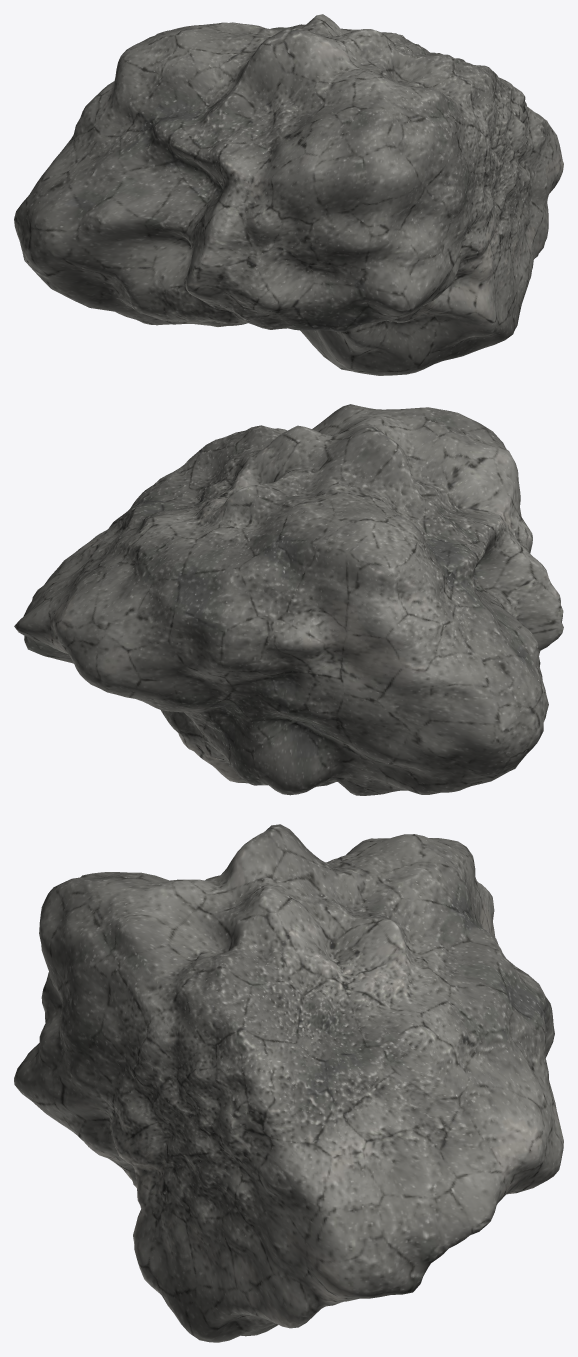
The model's file is asteroid-06.glb.
3 views of the same model, one above another, from view 1: azimuth 30°, elevation 25°; view 2: azimuth 150°, elevation 25°; view 3: azimuth 270°, elevation 25° (orthographic). The views are drawn at different scales.
Visible parts, largest first — view 1: asteroid-06; view 2: asteroid-06; view 3: asteroid-06.
Part boxes in pixels (box(x1,y1,x2,y2)): asteroid-06: box(14, 14, 563, 375); asteroid-06: box(14, 404, 563, 795); asteroid-06: box(14, 824, 563, 1342).
Size of the model in its own units: 2.95 by 1.98 by 2.26.
1 material, 1 textured.
